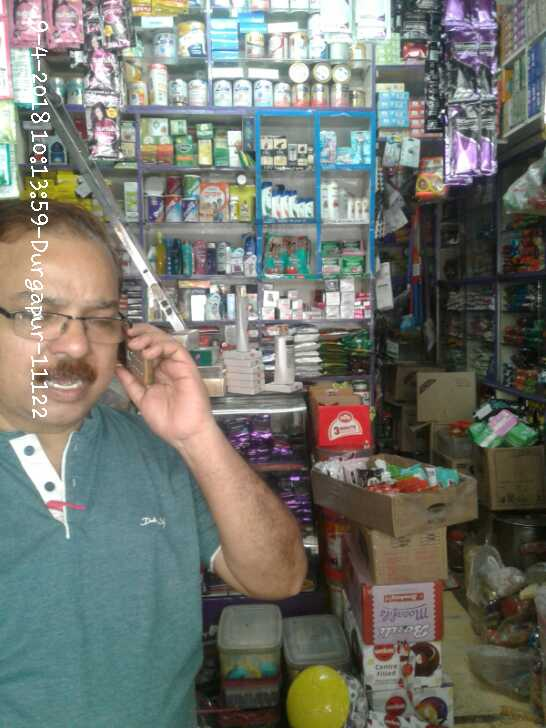venus: (352, 131, 369, 162), (320, 130, 336, 162), (337, 146, 352, 162)
